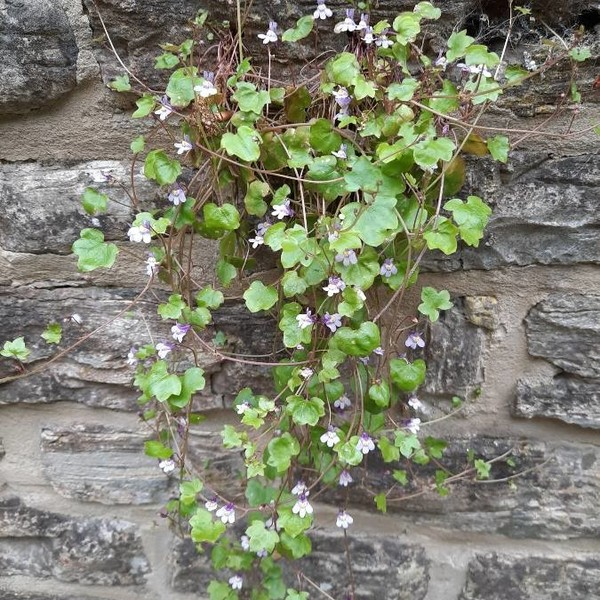obstacle: (143, 39, 474, 560)
